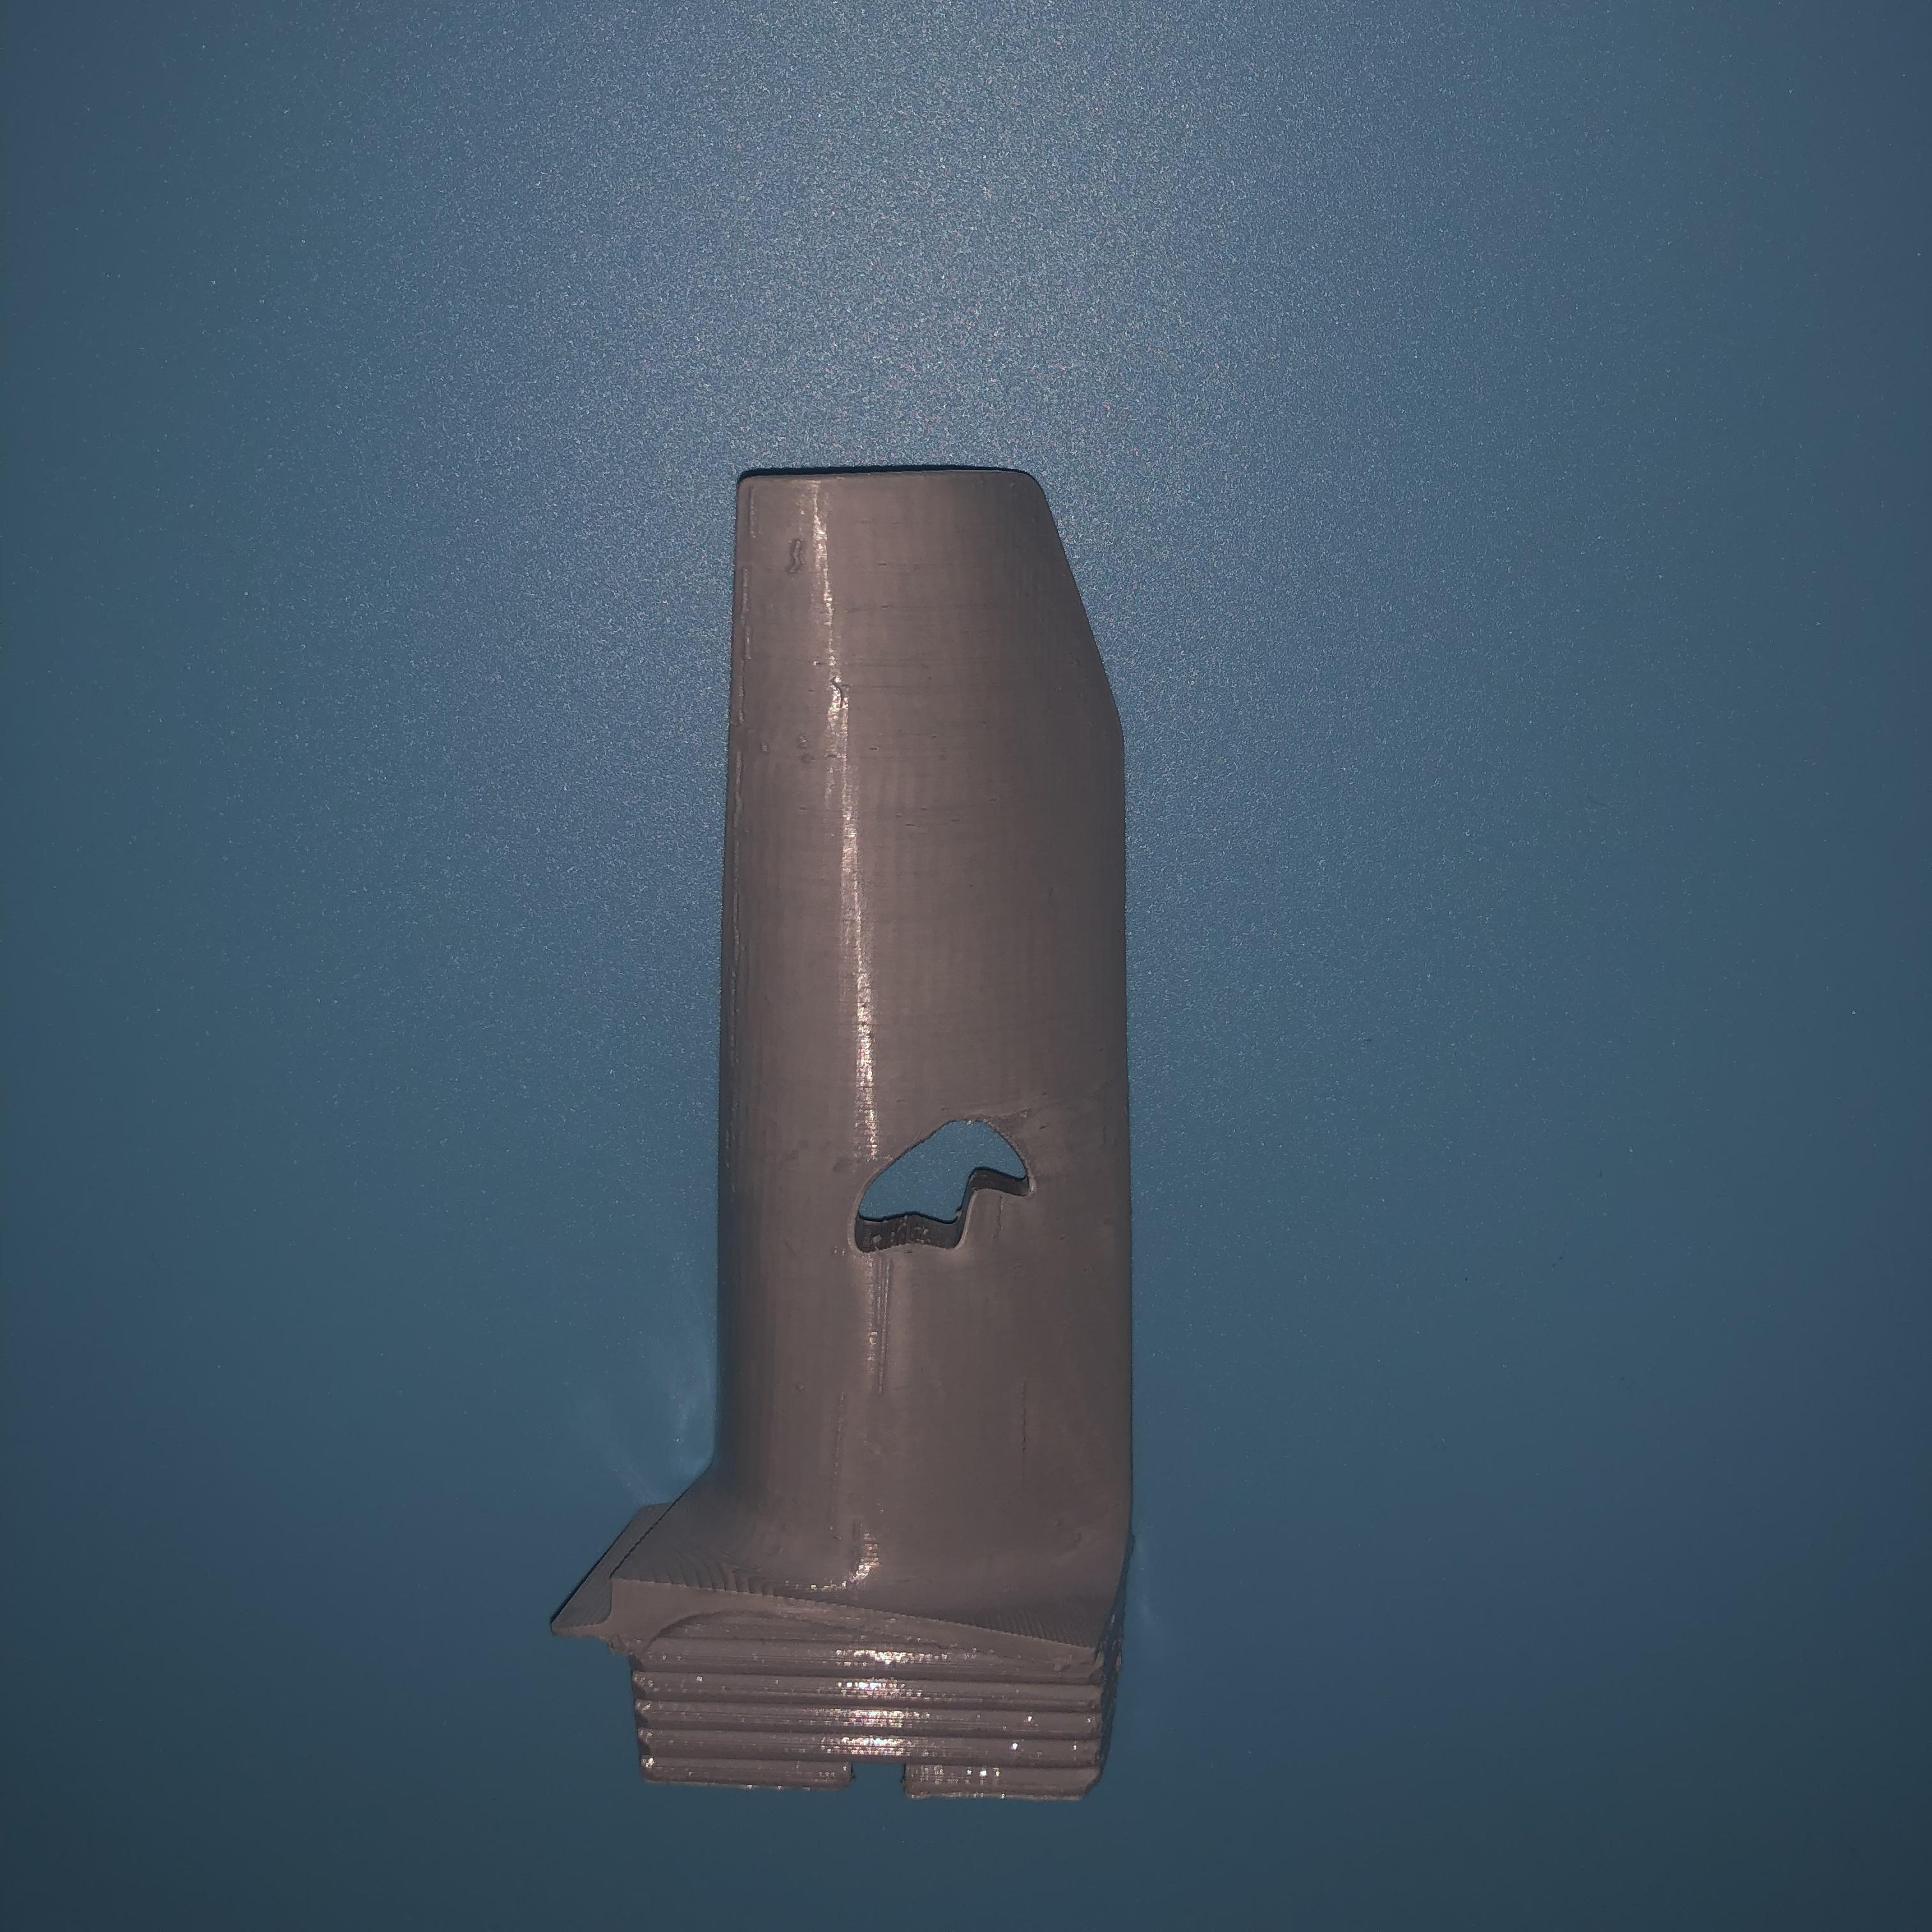breakdown: (847, 1093, 1054, 1263)
